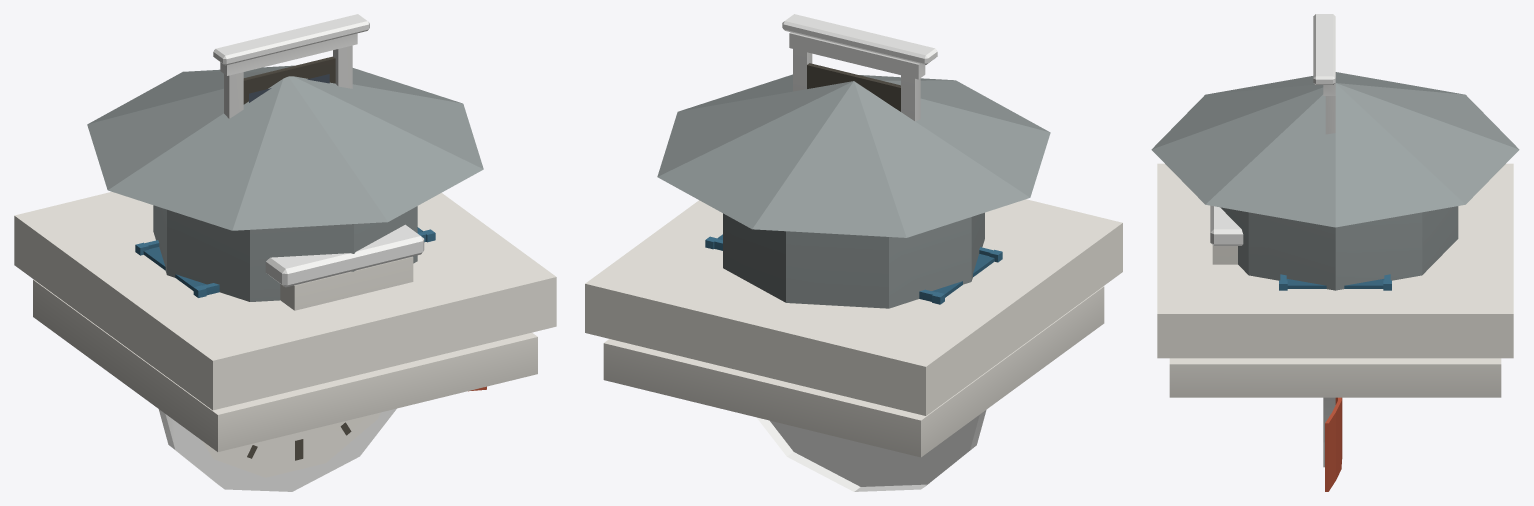
Rendered from civic-kit.glb.
3 renders of one model, left to right at view 1: azimuth 30°, elevation 25°; view 2: azimuth 150°, elevation 25°; view 3: azimuth 270°, elevation 25°, orthographic. The views are drawn at different scales.
Visible parts, largest first — view 1: Vent, ColumnCapital, ColumnBase, Clock, Door, StepCheek, Container; view 2: Vent, ColumnCapital, ColumnBase, Door, Clock, Container; view 3: Vent, ColumnCapital, ColumnBase, Door, StepCheek, FlagCloth, Container.
Boxes of the visible parts, box(x1,y1,x2,y2) form: Vent: box(87, 65, 483, 301); ColumnCapital: box(14, 192, 556, 410); ColumnBase: box(33, 279, 537, 451); Clock: box(158, 408, 396, 491); Door: box(213, 14, 369, 118); StepCheek: box(265, 224, 424, 310); Container: box(135, 227, 435, 297); Vent: box(657, 74, 1050, 308); ColumnCapital: box(585, 199, 1122, 415); ColumnBase: box(603, 286, 1104, 457); Door: box(782, 14, 937, 121); Clock: box(756, 410, 986, 491); Container: box(705, 234, 1002, 304); Vent: box(1151, 72, 1519, 290); ColumnCapital: box(1157, 163, 1513, 358); ColumnBase: box(1169, 358, 1501, 397); Door: box(1313, 14, 1335, 134); StepCheek: box(1210, 205, 1243, 264); FlagCloth: box(1325, 397, 1342, 491); Container: box(1279, 274, 1391, 290).
Size of the model in its own units: 3.15 by 3.68 by 3.
